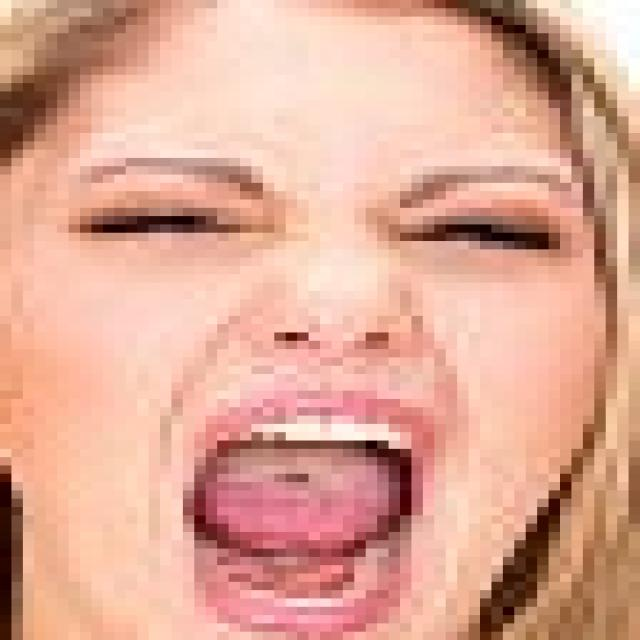Anxiety: (11, 2, 608, 632)
